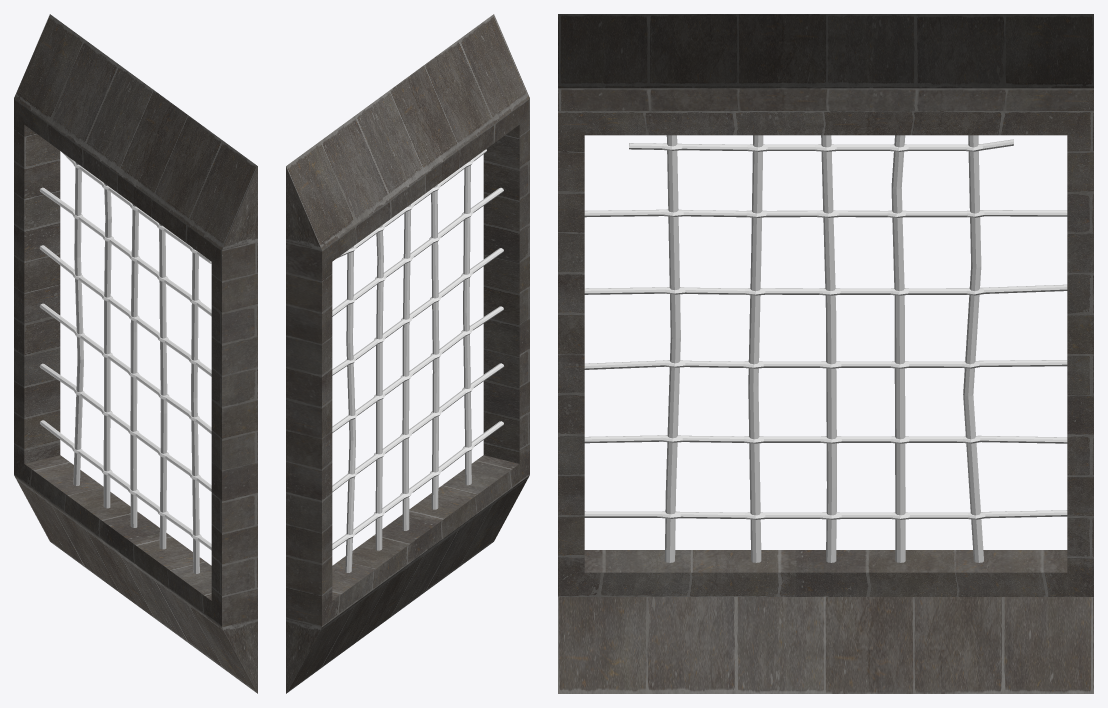
Rendered from edge_grating_separated.fbx.
3 renders of one model, left to right at view 1: azimuth 30°, elevation 25°; view 2: azimuth 150°, elevation 25°; view 3: azimuth 270°, elevation 25°, orthographic. The views are drawn at different scales.
Parts seen in each view (by area): view 1: Frame, Grate; view 2: Frame, Grate; view 3: Frame, Grate.
Boxes of the visible parts, bbox=[...] form: Frame: bbox=[14, 14, 257, 693]; Grate: bbox=[39, 152, 211, 573]; Frame: bbox=[286, 14, 529, 693]; Grate: bbox=[332, 149, 503, 572]; Frame: bbox=[558, 14, 1093, 693]; Grate: bbox=[584, 135, 1067, 562].
Size of the model in its own units: 10 by 140 by 100.
